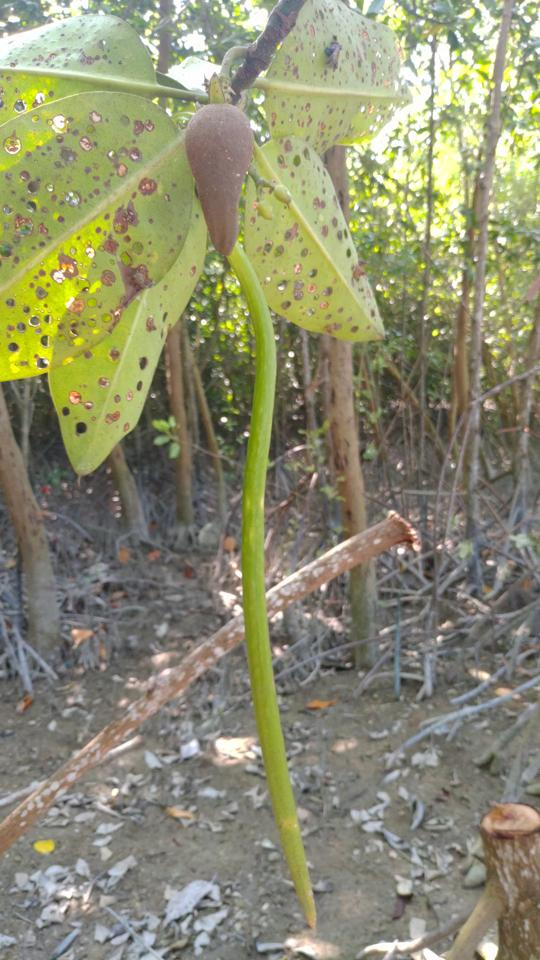mentah: (165, 71, 341, 951)
